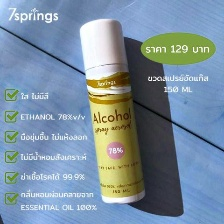aerosol_cans: (72, 12, 150, 207)
